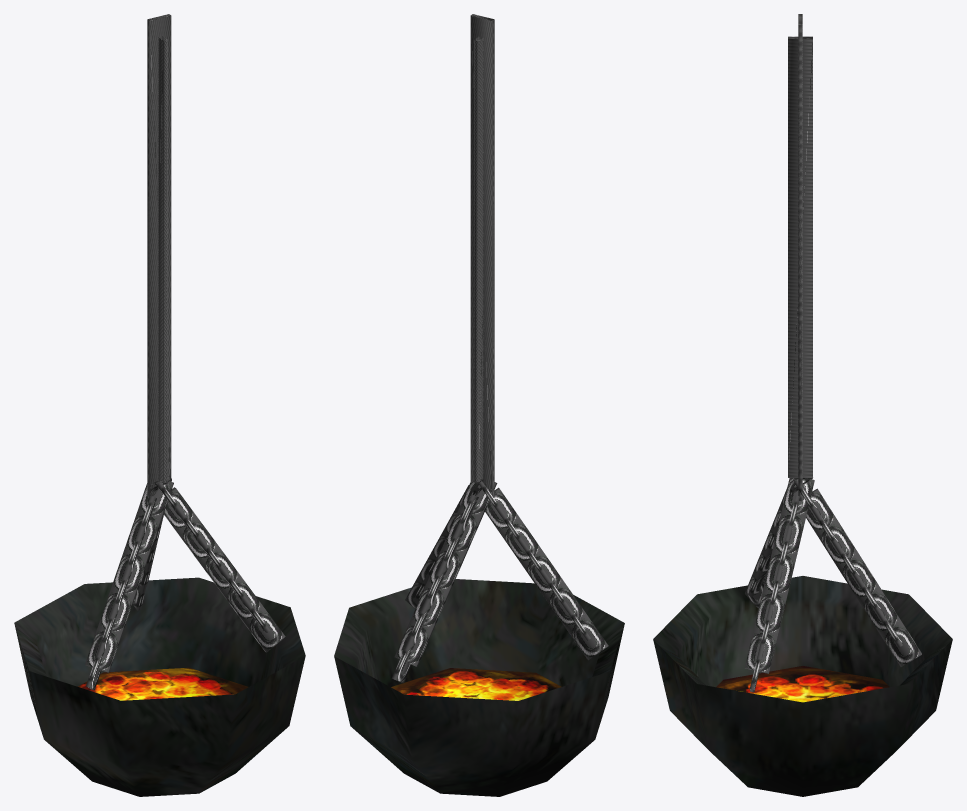
File: INST_SM_BRASIER.fbx
3 renders of one model, left to right at view 1: azimuth 30°, elevation 25°; view 2: azimuth 150°, elevation 25°; view 3: azimuth 270°, elevation 25°, orthographic.
Parts seen in each view (by area): view 1: INST_SM_BRASIER; view 2: INST_SM_BRASIER; view 3: INST_SM_BRASIER.
Part boxes in pixels (box(x1,y1,x2,y2)): INST_SM_BRASIER: box(14, 14, 305, 796); INST_SM_BRASIER: box(334, 14, 624, 796); INST_SM_BRASIER: box(653, 14, 952, 796).
Size of the model in its own units: 11700 by 32882 by 11700.
Materials: 3 (3 with a texture image).
